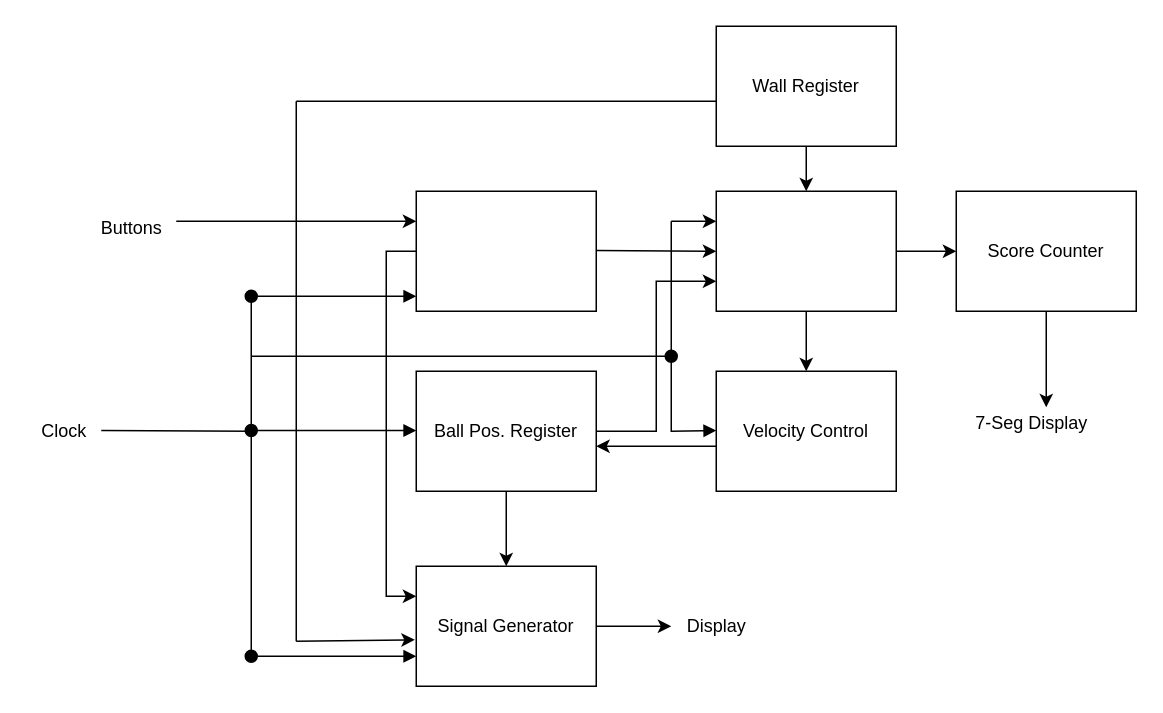
Image size: 1163x713. Some labels were removed from this diagram. Each missing label, with the centre of its shape:
"Collision Detect" goes at point (805, 250).
"Paddle Pos. Register" goes at point (505, 250).
